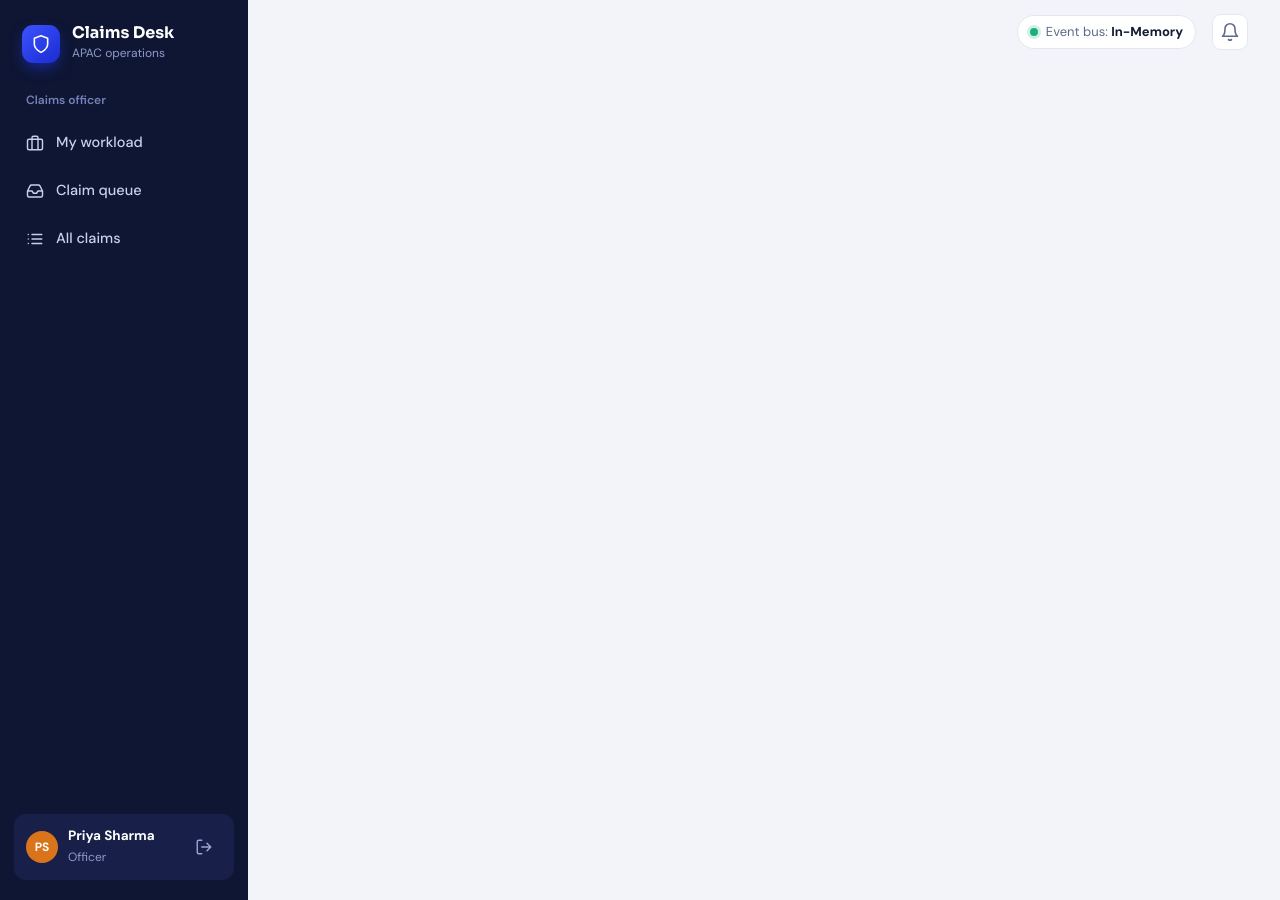
it: ShellComponent › notification bell › shows a friendly empty state
Step 1. Click the button with class "bell" → {"x": 1230, "y": 32}, box [1212,14,1248,50]
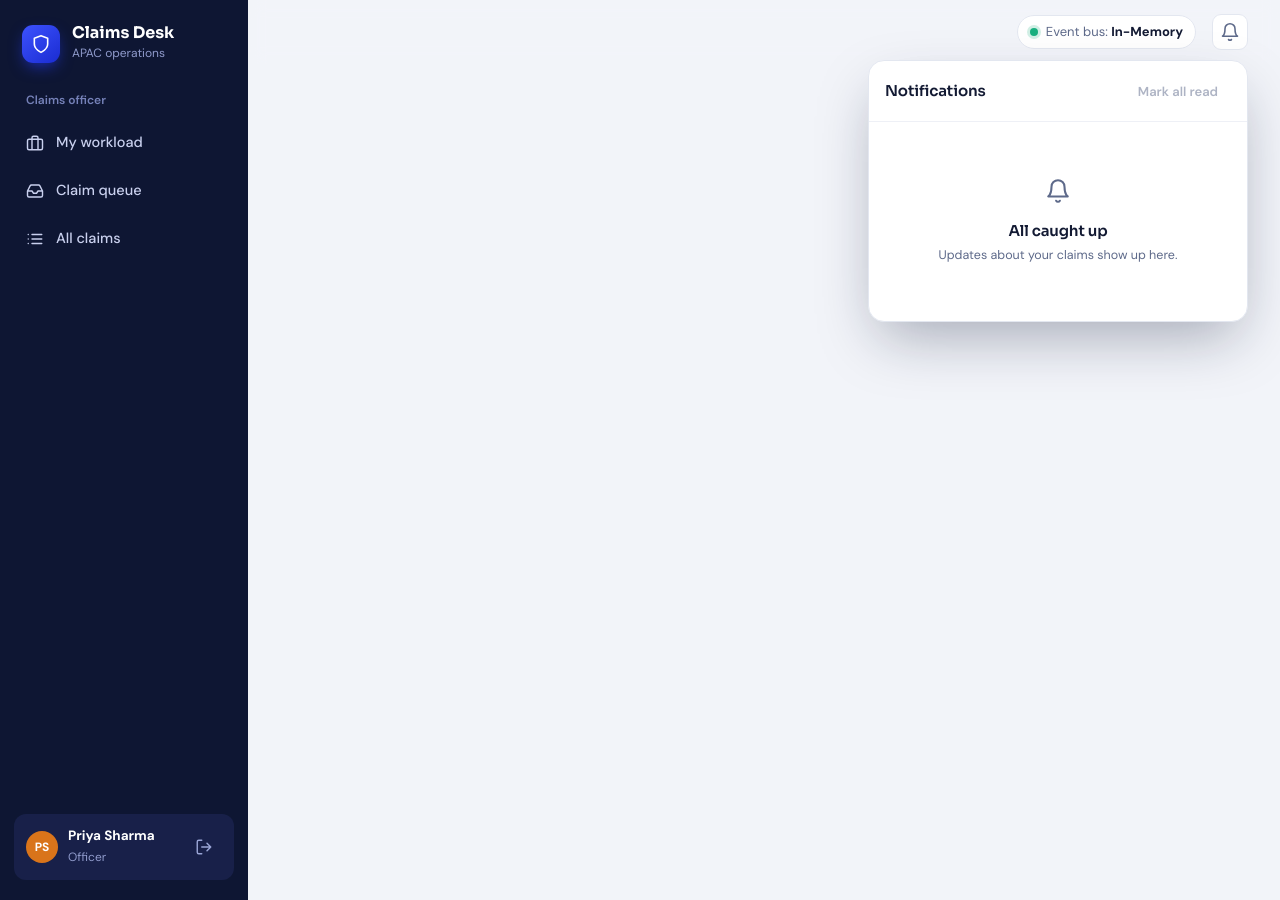
Expected: the element with class "empty" shows "All caught up", [1008,221,1108,240]
